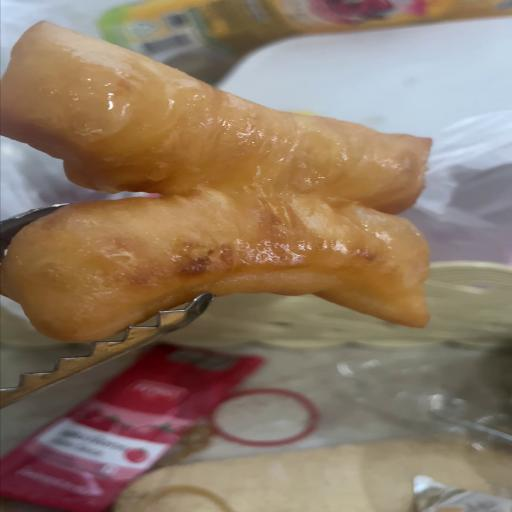street_golden_good: (0, 22, 433, 346)
